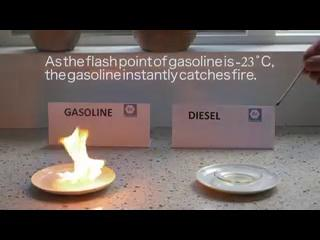Fire: (60, 127, 108, 184)
